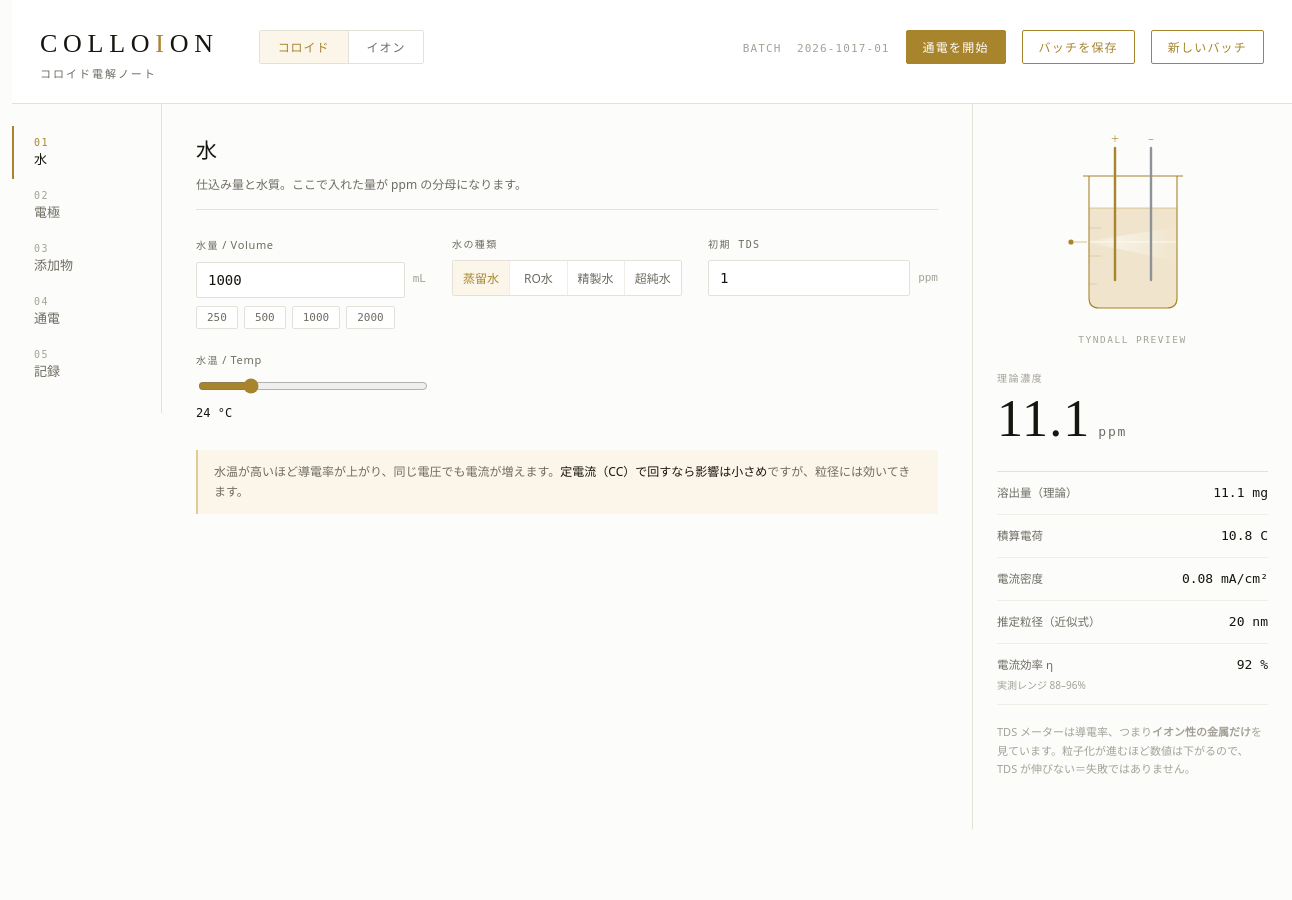
Test: App › Mg 選択で警告（CAUTION）と代替製法の推奨が出る
The width and height of the screenshot is (1292, 900).
Step 1. Click the tab "02 電極" → coordinates (86, 205), box [12,179,161,232]
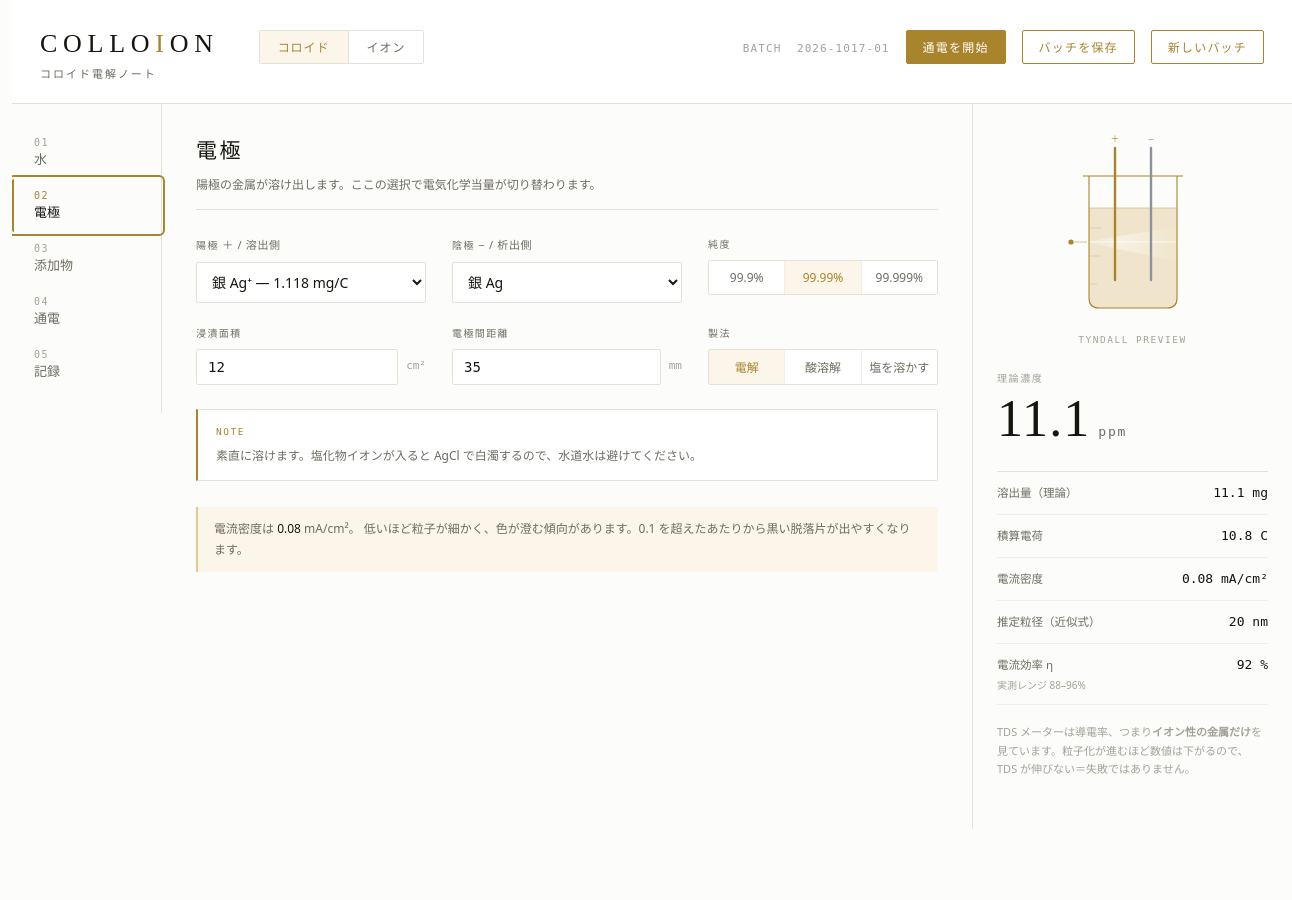
Step 2. Select "マグネシウム Mg²⁺ — 0.126 mg/C" in the dropdown labelled "陽極 ＋ / 溶出側" → coordinates (311, 282), box [196,262,426,303]
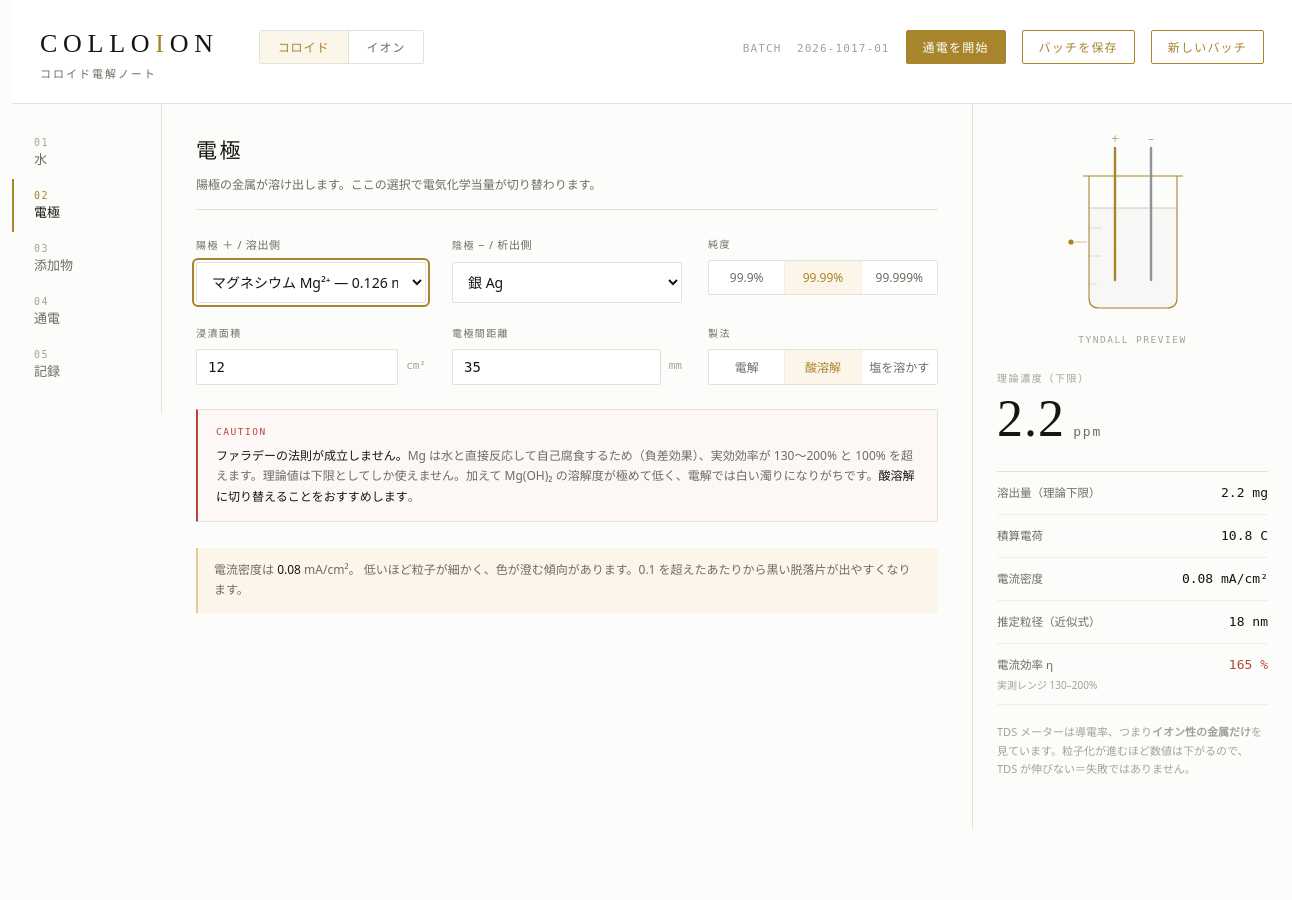
Expected: the text "CAUTION" is shown, [216,426,267,437]
Expected: the text "ファラデーの法則が成立しません。" is shown, [216,447,408,464]
Expected: the text "理論濃度（下限）" is shown, [997,373,1090,384]
